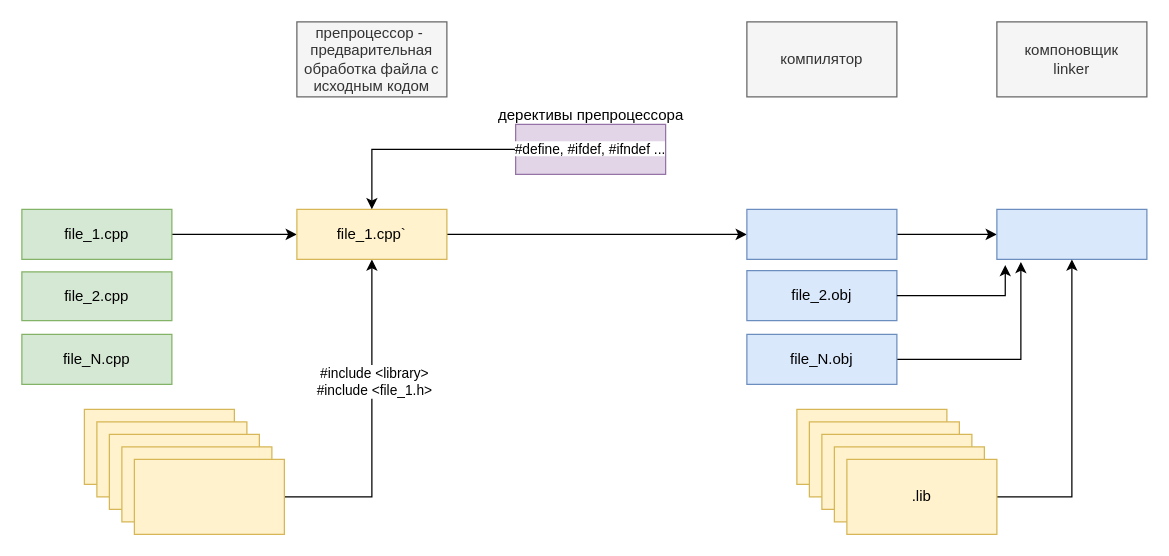
Some shapes in this 1169 by 556 pixel diagram are drawn without their labels. The box of each missing label's shape, as (x1, y1, x2, y2) in pixels:
file_1.obj: (746, 208, 897, 259)
program.exe: (996, 208, 1147, 259)
файлы с расширением h file*.h: (133, 458, 284, 534)
